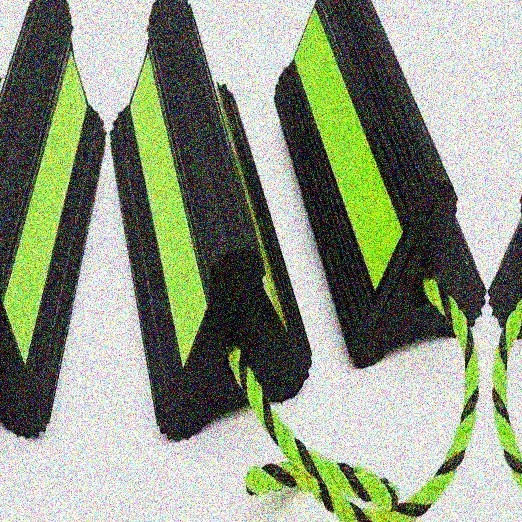chock: (105, 0, 319, 448), (267, 0, 494, 371), (0, 0, 108, 445)
